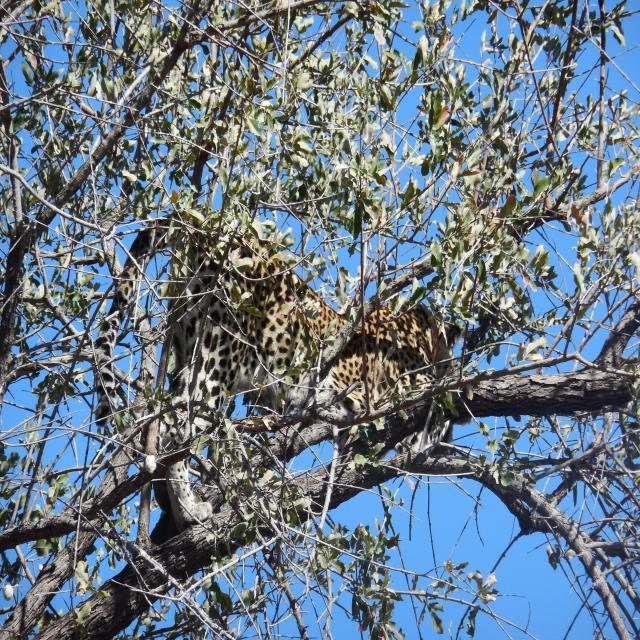Leopard: (16, 216, 497, 550)
